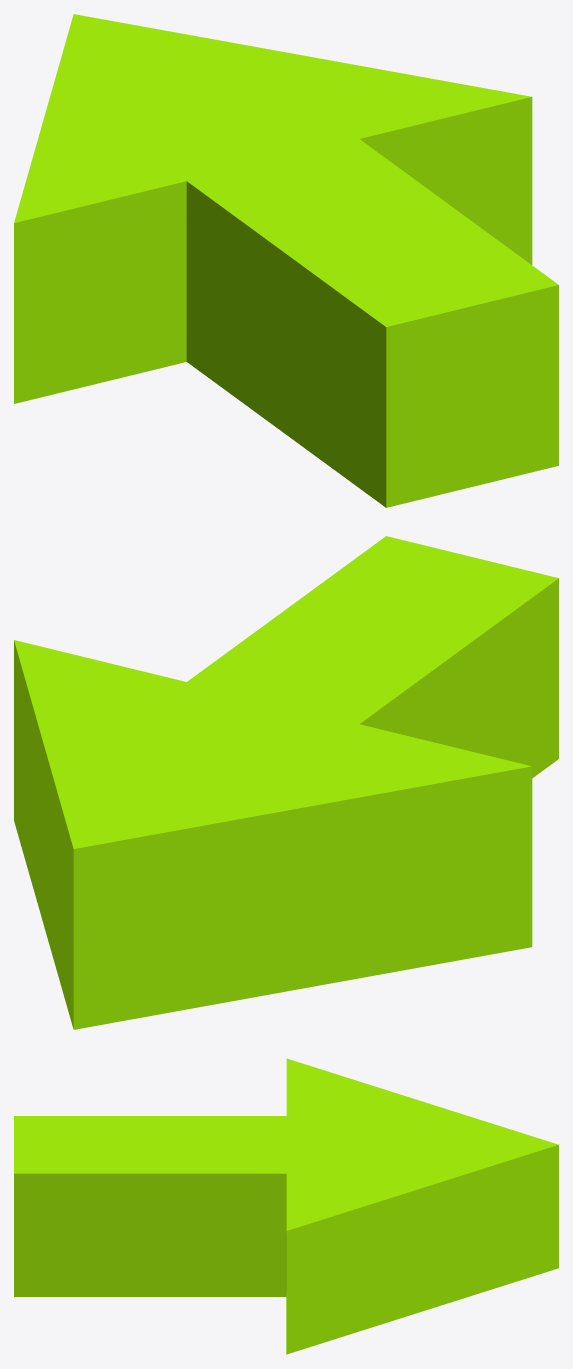
The model's file is arrowDoctor.glb.
The picture shows the model from 3 angles, top to bottom: view 1: azimuth 30°, elevation 25°; view 2: azimuth 150°, elevation 25°; view 3: azimuth 270°, elevation 25°; orthographic projection. The views are drawn at different scales.
Visible parts, largest first — view 1: Object_1; view 2: Object_1; view 3: Object_1.
Boxes of the visible parts, x1,y1,x2,y2 form: Object_1: (14, 14, 558, 507); Object_1: (14, 536, 558, 1029); Object_1: (14, 1058, 558, 1354).
Bounding box in the file's own units: 15 × 5 × 20.
1 material, 1 textured.
